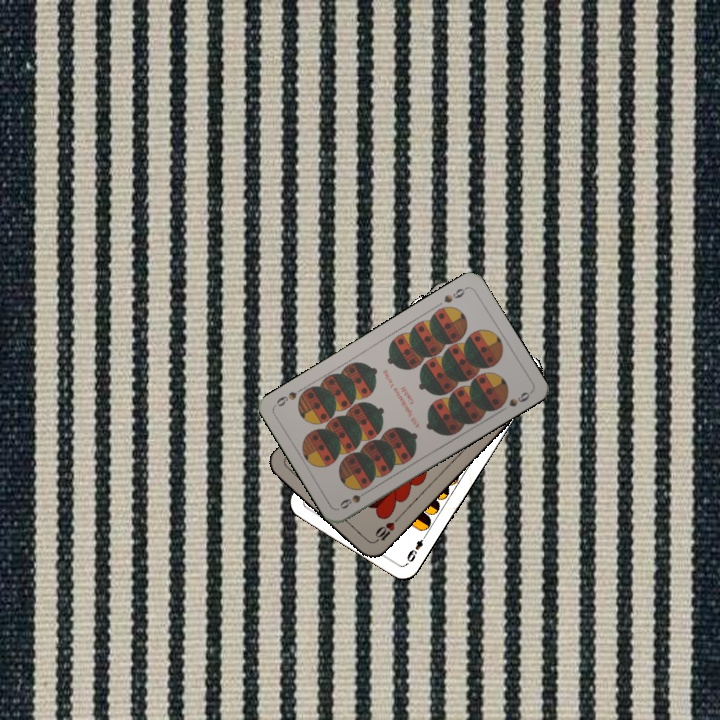E9: (403, 529, 429, 565)
H10: (369, 513, 401, 546)
S9: (335, 485, 373, 511), (440, 283, 470, 306)
